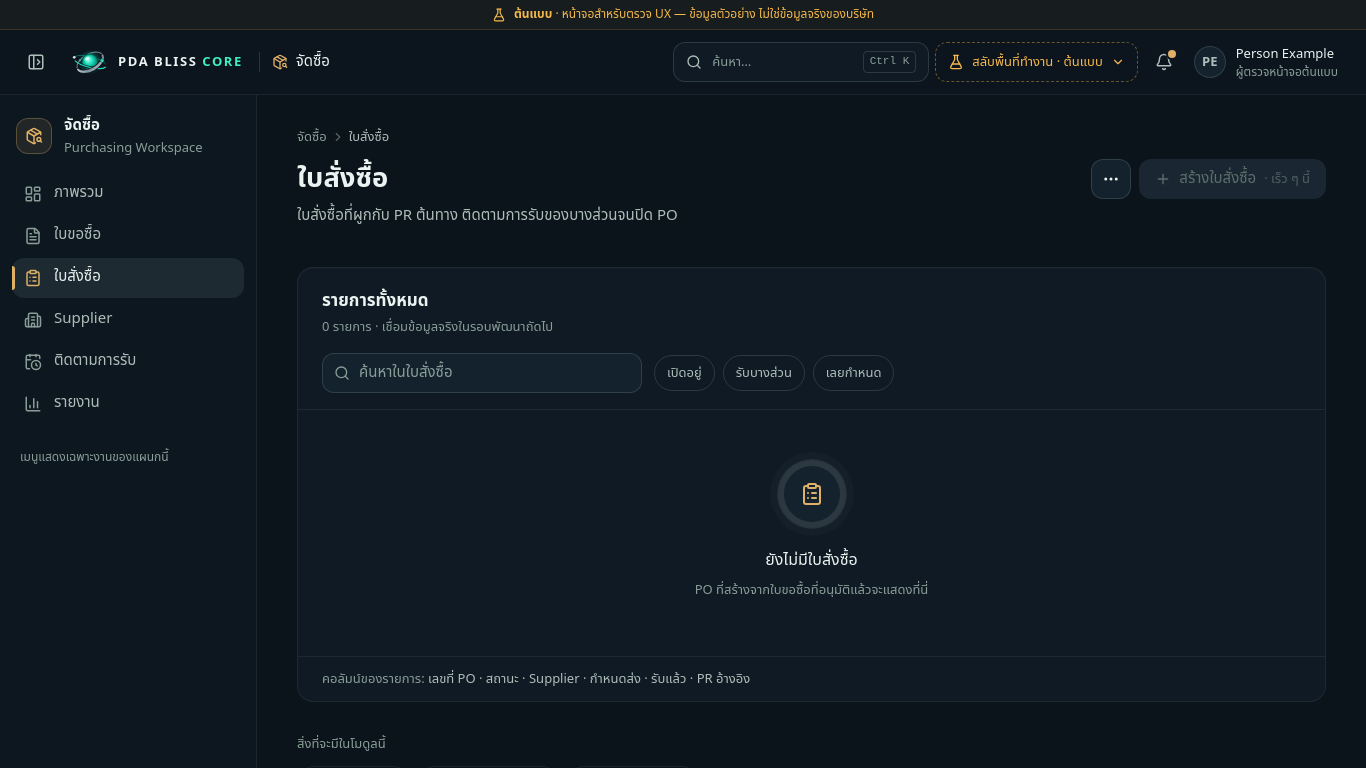
Scenario: AppShell (EP02) › module pages show the blueprint table with an intentional empty state
Expected: the heading "ใบสั่งซื้อ" is shown, [297,159,388,199]
Expected: the text "ยังไม่มีใบสั่งซื้อ" is shown, [765,546,858,574]
Type "xyz" into the search field named "ค้นหารายการ" at (482, 373), box [322,353,642,393]
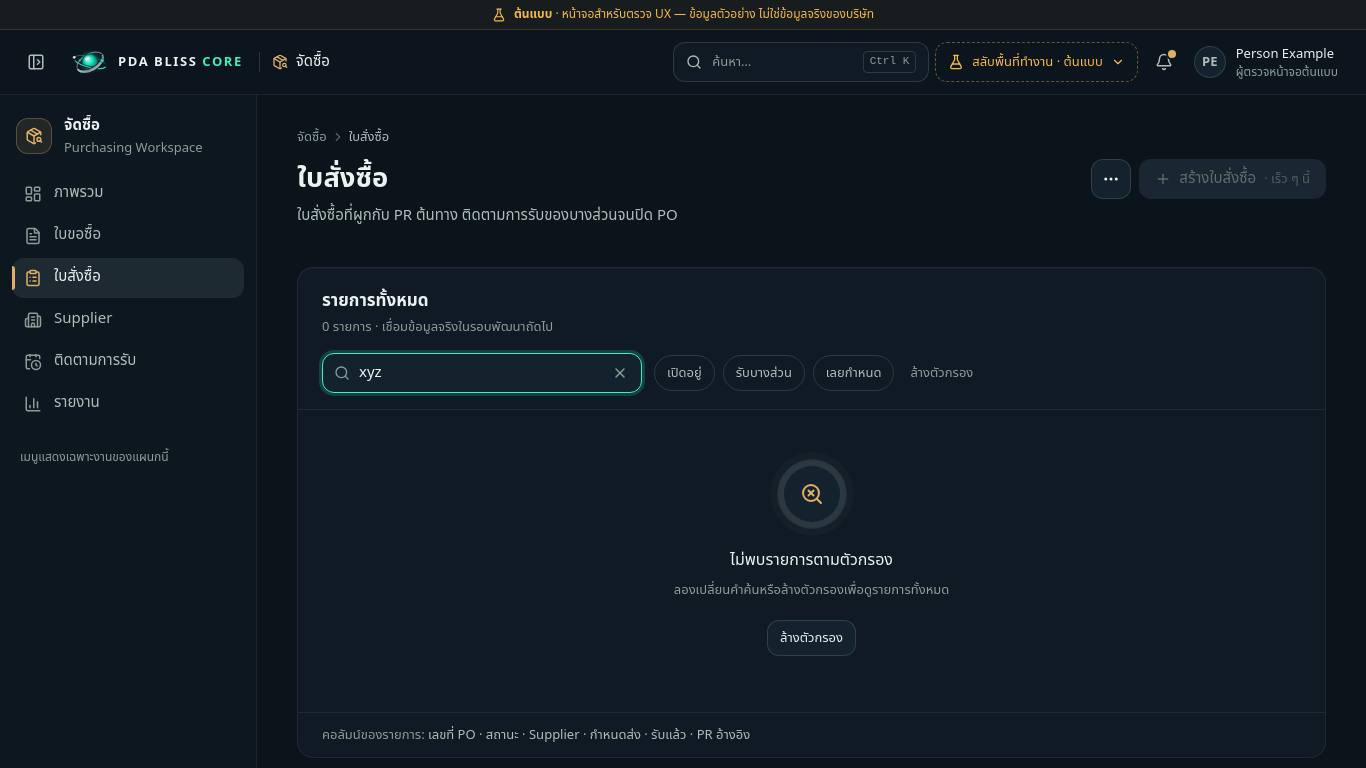
Expected: the text "ไม่พบรายการตามตัวกรอง" is shown, [730,546,893,574]
